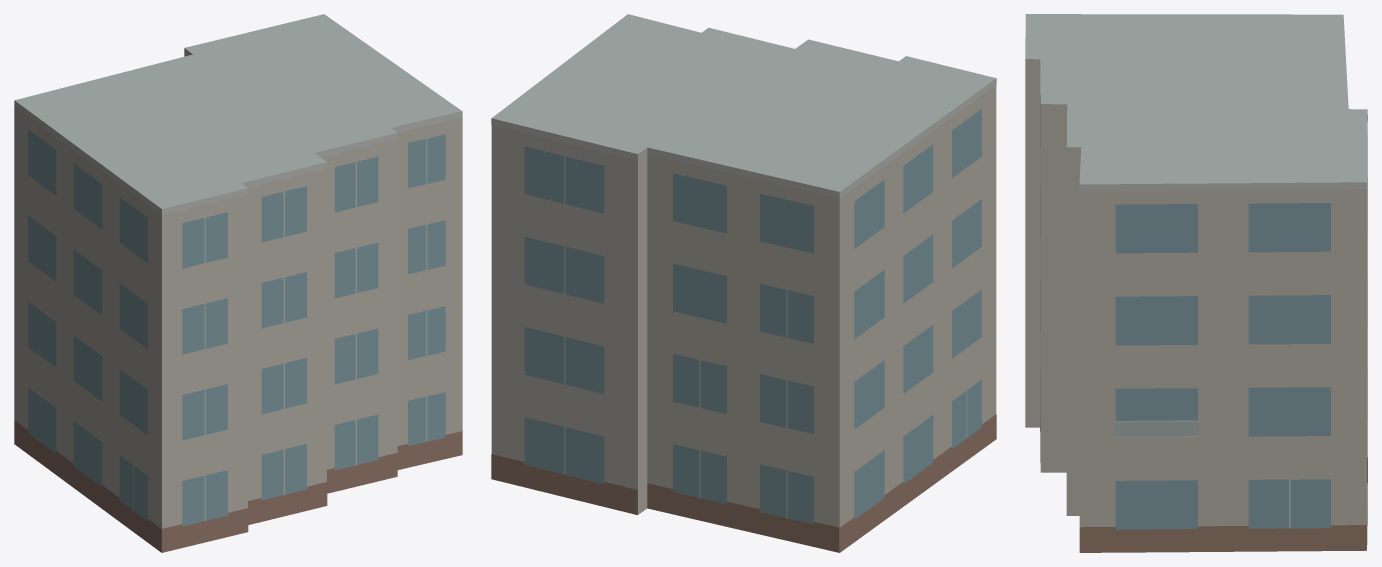
The model's file is survey-upis-32978077.glb.
The picture shows the model from 3 angles, left to right: view 1: azimuth 30°, elevation 25°; view 2: azimuth 150°, elevation 25°; view 3: azimuth 270°, elevation 25°; orthographic projection. The views are drawn at different scales.
Visible parts, largest first — view 1: survey-upis-32978077.tmp; view 2: survey-upis-32978077.tmp; view 3: survey-upis-32978077.tmp.
Boxes of the visible parts, x1,y1,x2,y2 form: survey-upis-32978077.tmp: [14, 14, 462, 552]; survey-upis-32978077.tmp: [491, 14, 996, 552]; survey-upis-32978077.tmp: [1025, 14, 1367, 552].
Bounding box in the file's own units: 13.22 × 13.3 × 11.21.
